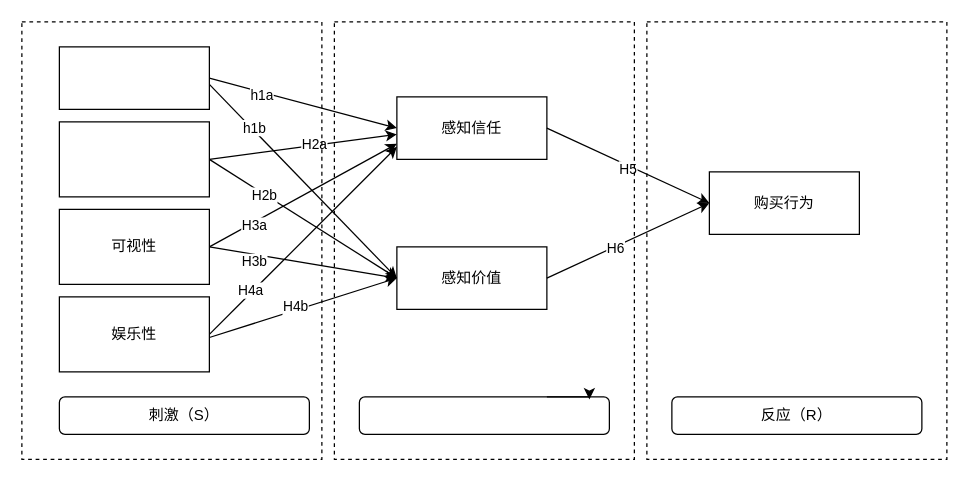
This 969x481 diagram has some shape labels left out. The shapes that lost their labels are listed below. From the top down, each one's centre as x and y in pixels, then its label:
At (133,77): "互动性".
At (133,159): "真实性".
At (483,415): "机体（O）".
